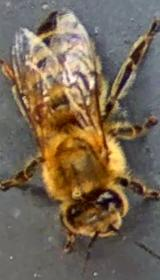varroa_mite: (24, 95, 60, 126)
